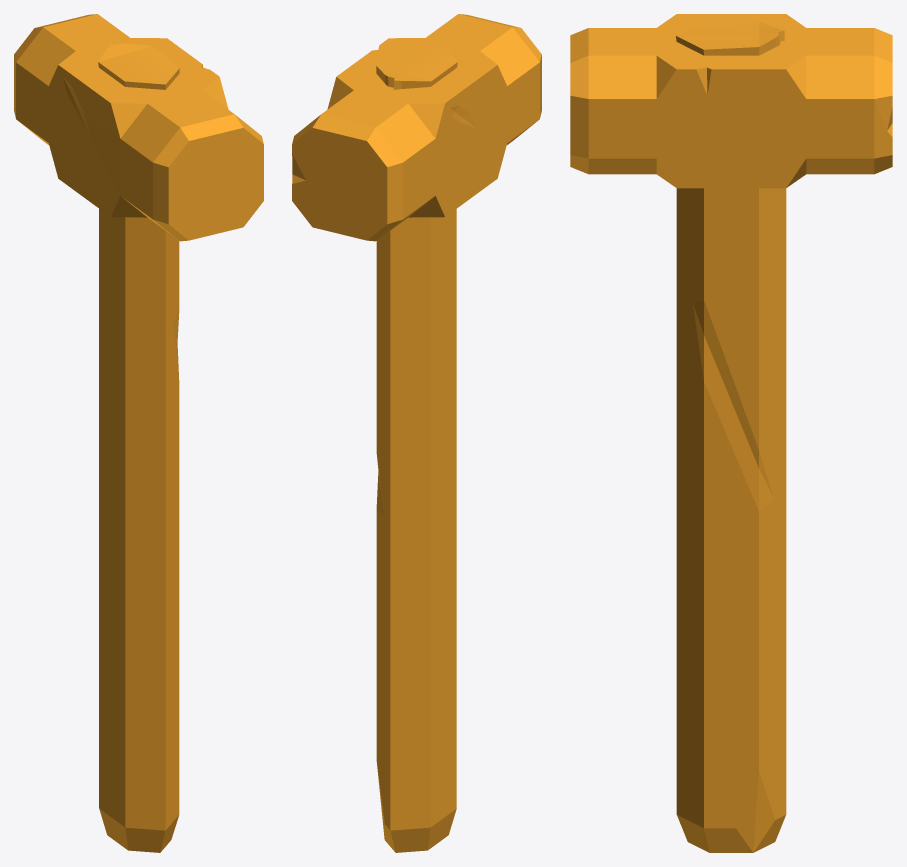
Rendered from SM_Hammer_Blacksmith_D.fbx.
3 renders of one model, left to right at view 1: azimuth 30°, elevation 25°; view 2: azimuth 150°, elevation 25°; view 3: azimuth 270°, elevation 25°, orthographic. The views are drawn at different scales.
Parts seen in each view (by area): view 1: hammer-blacksmith-d; view 2: hammer-blacksmith-d; view 3: hammer-blacksmith-d.
Boxes of the visible parts, left/top/right/bottom form: hammer-blacksmith-d: left=14, top=14, right=263, bottom=852; hammer-blacksmith-d: left=292, top=14, right=541, bottom=852; hammer-blacksmith-d: left=570, top=14, right=892, bottom=852.
Size of the model in its own units: 0.06 by 0.4089 by 0.1475.
